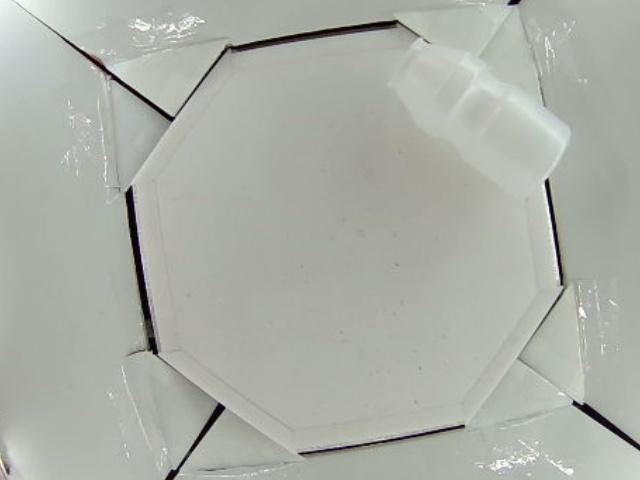Bottle: (386, 34, 570, 200)
